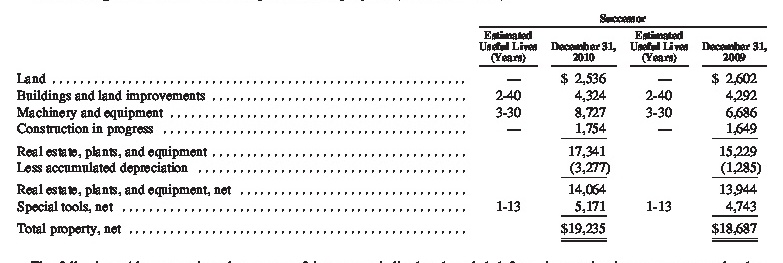table: (0, 0, 783, 263)
